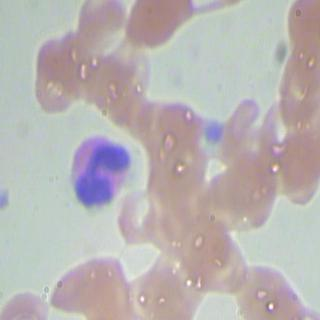Platelets: (200, 118, 225, 142), (0, 188, 15, 214)
RBC: (47, 250, 130, 316), (221, 148, 276, 232), (272, 54, 320, 138), (272, 124, 319, 208), (124, 0, 198, 50), (32, 28, 75, 114), (231, 256, 281, 320), (75, 0, 130, 56), (151, 98, 206, 154), (118, 186, 165, 250), (177, 210, 224, 274), (205, 230, 252, 294), (281, 0, 320, 66)
WBC: (58, 128, 139, 212)
